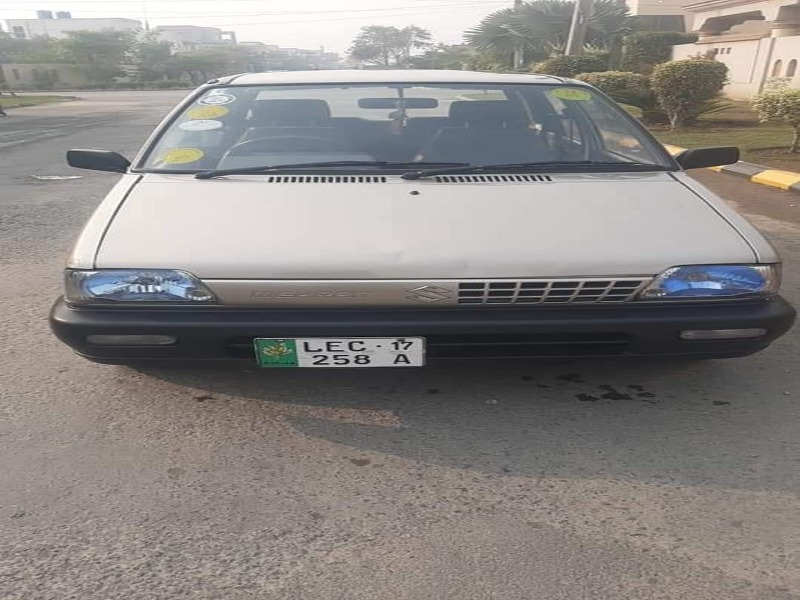License Plate: (249, 334, 429, 369)
